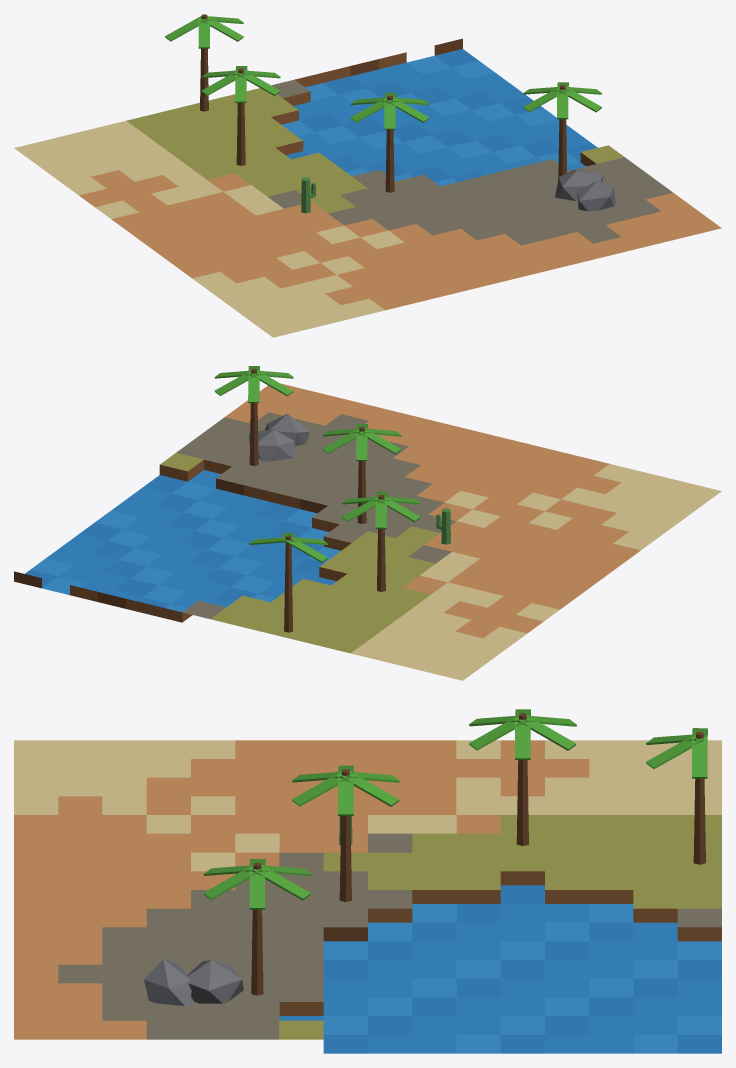
Rendered from chunk_9_21.glb.
3 views of the same model, one above another, from view 1: azimuth 30°, elevation 25°; view 2: azimuth 150°, elevation 25°; view 3: azimuth 270°, elevation 25° (orthographic). The views are drawn at different scales.
Parts seen in each view (by area): view 1: chunk_9_21; view 2: chunk_9_21; view 3: chunk_9_21.
Boxes of the visible parts, x1,y1,x2,y2 form: chunk_9_21: (14, 14, 721, 337); chunk_9_21: (14, 366, 721, 680); chunk_9_21: (14, 709, 721, 1053).
Size of the model in its own units: 16 by 3.6 by 16.
